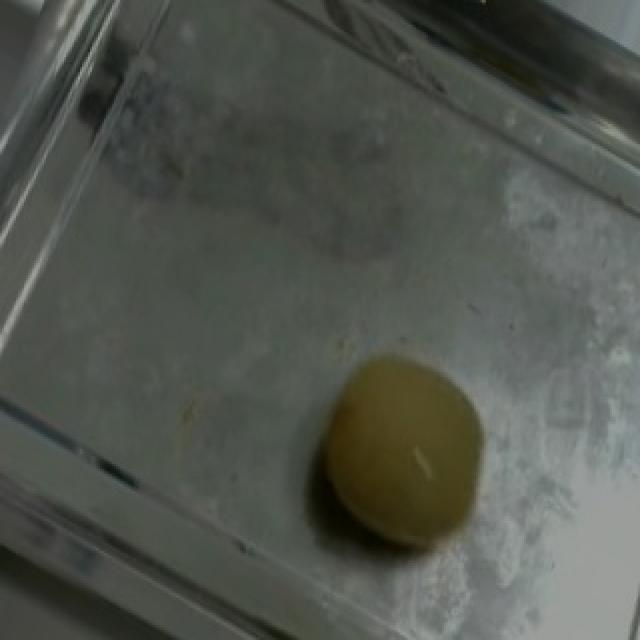Fruit: (268, 322, 528, 586)
